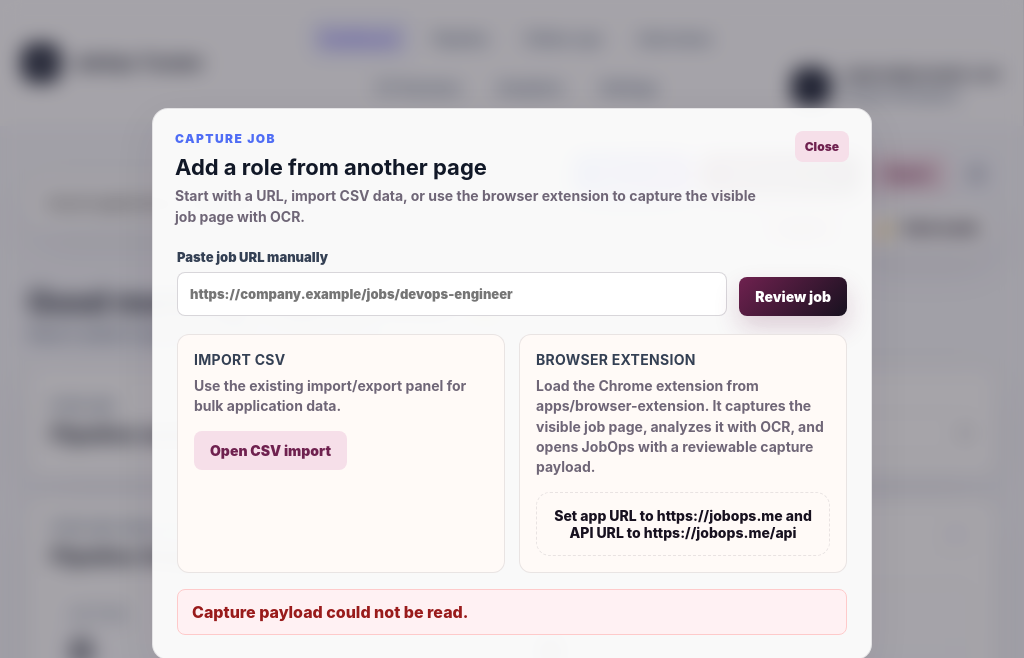
Scenario: job capture flow › opens capture directly for an authenticated user and handles invalid payloads
The image size is (1024, 658).
Expected: the text "Capture payload could not be read." is shown, x1=177 y1=588 x2=847 y2=634
Expected: the heading "Browser extension" is shown, x1=536 y1=351 x2=696 y2=368
Type "https://company.example/jobs/platform" into the field labelled "Paste job URL manually" at (452, 294), box x1=177 y1=272 x2=727 y2=316
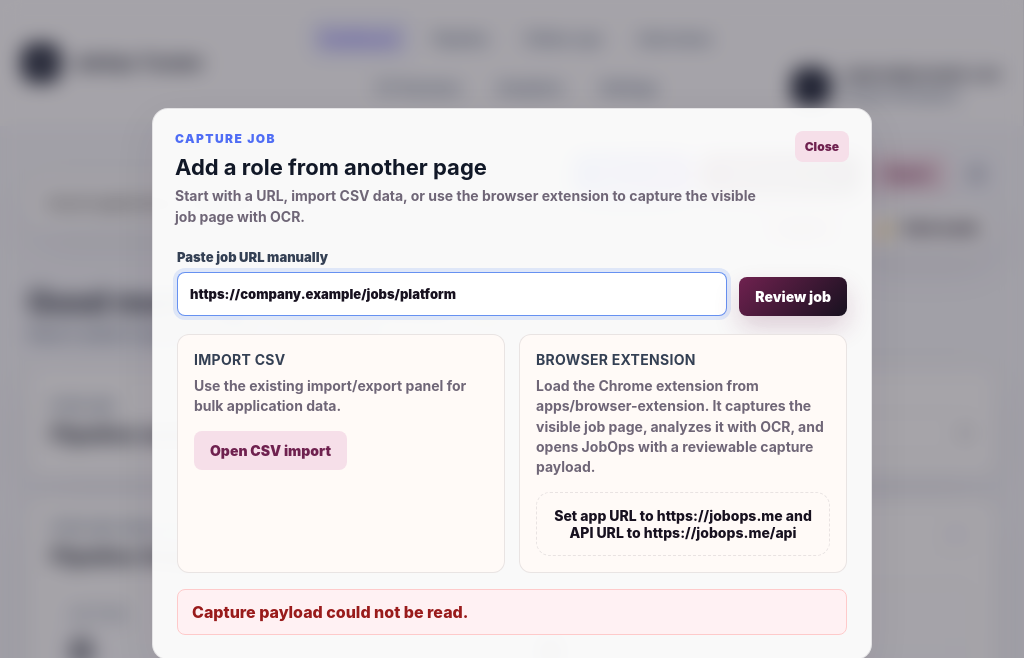
Click the button "Review job" at (793, 297), box x1=739 y1=277 x2=847 y2=316
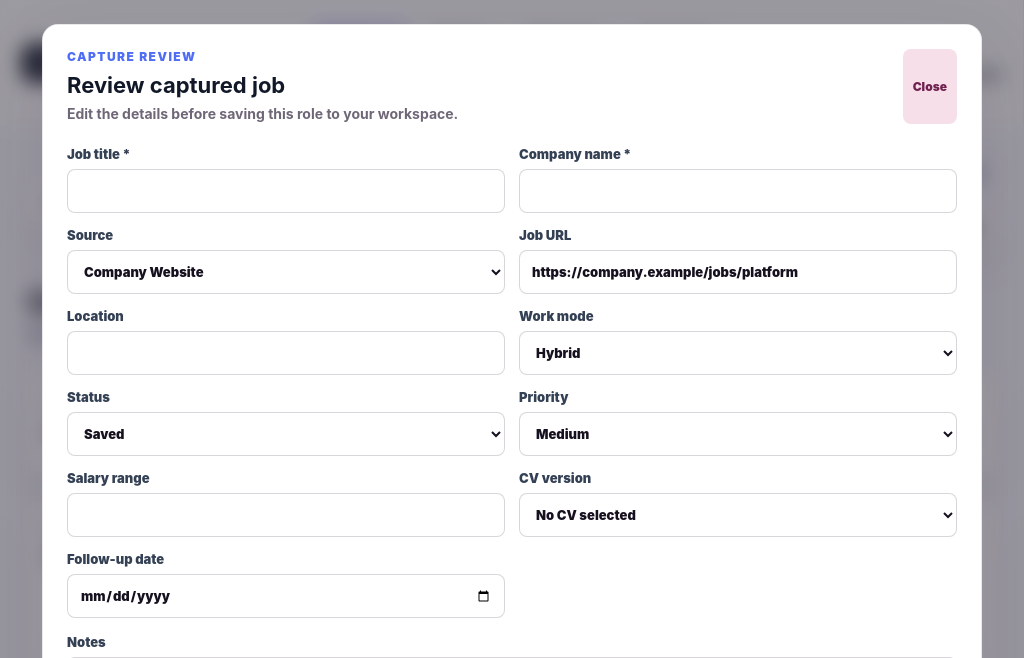
Now the heading "Review captured job" is shown, box x1=67 y1=72 x2=285 y2=98
Now the field named "job_url" holds "https://company.example/jobs/platform", box x1=519 y1=250 x2=957 y2=294
Now the dropdown named "source" shows "Company Website", box x1=67 y1=250 x2=505 y2=294
